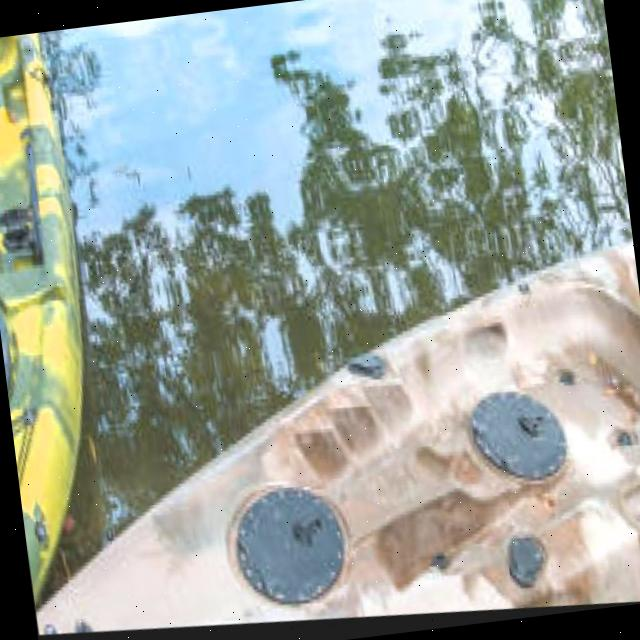kayak: (35, 239, 640, 640), (0, 32, 85, 615)
